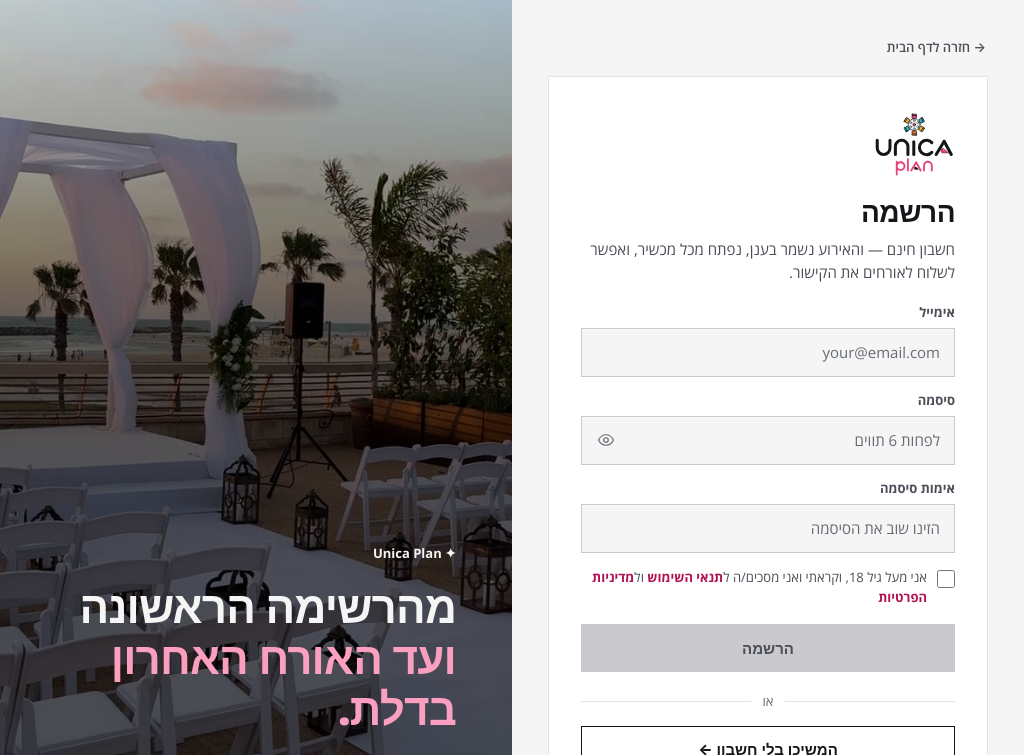
signup — consent to the terms › does not sign up without the box, and says why
In the field labelled "אימייל": (768, 352) left=581, top=328, right=955, bottom=377, type "a@b.co"
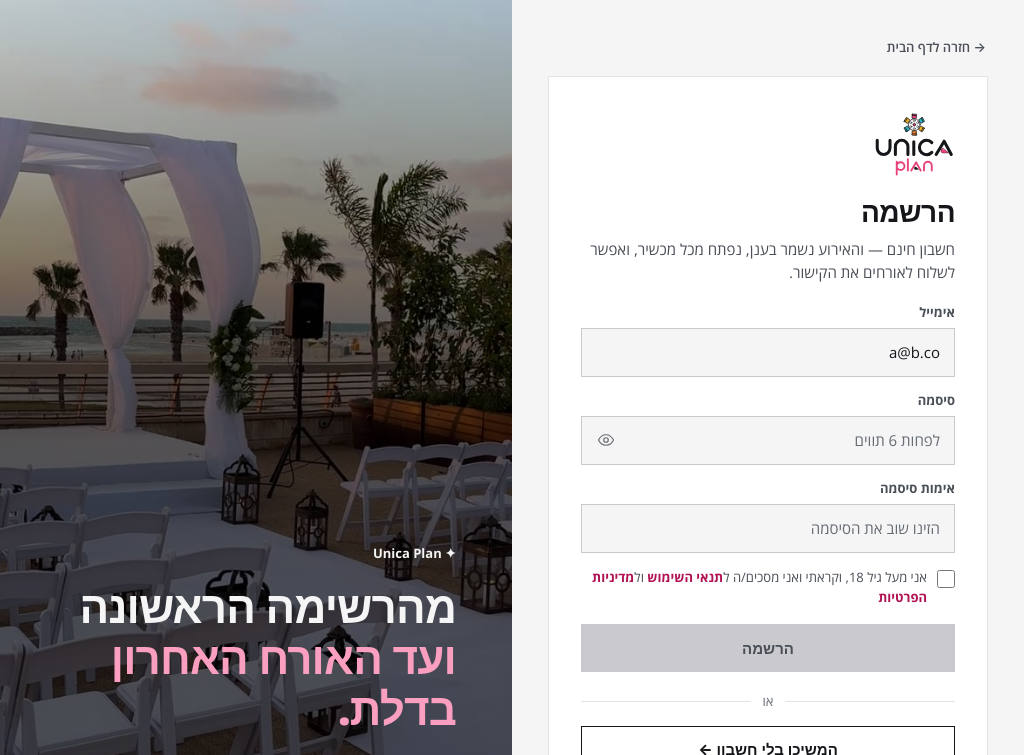
In the password field labelled "סיסמה": (768, 440) left=581, top=416, right=955, bottom=465, type "secret1"
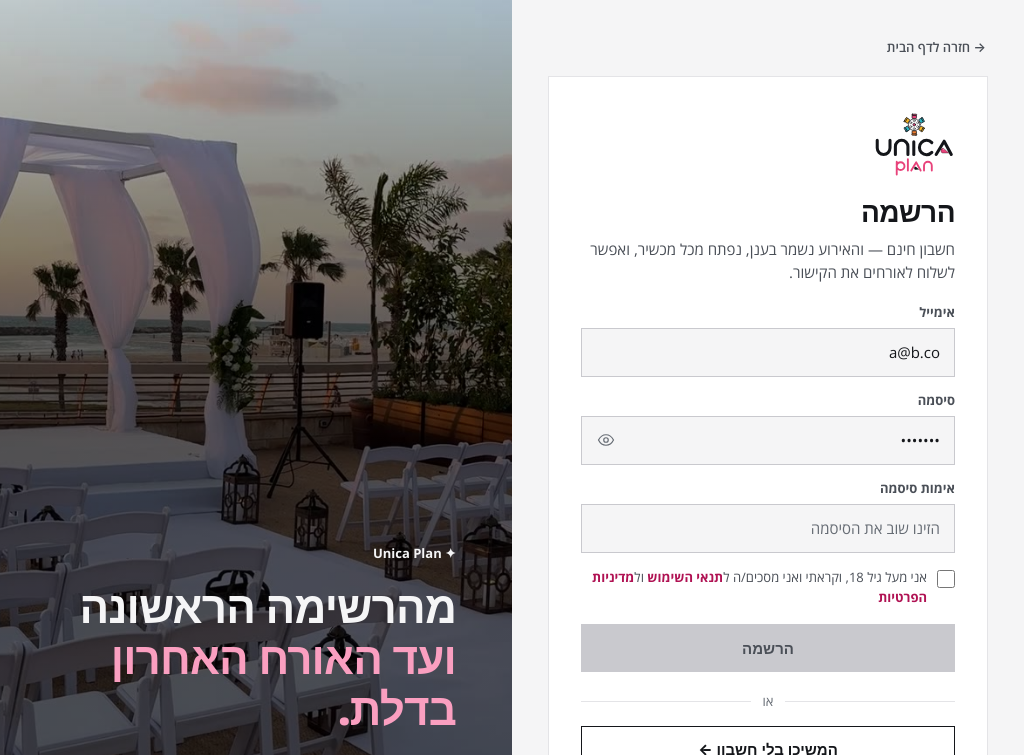
In the password field labelled "אימות סיסמה": (768, 528) left=581, top=504, right=955, bottom=553, type "secret1"
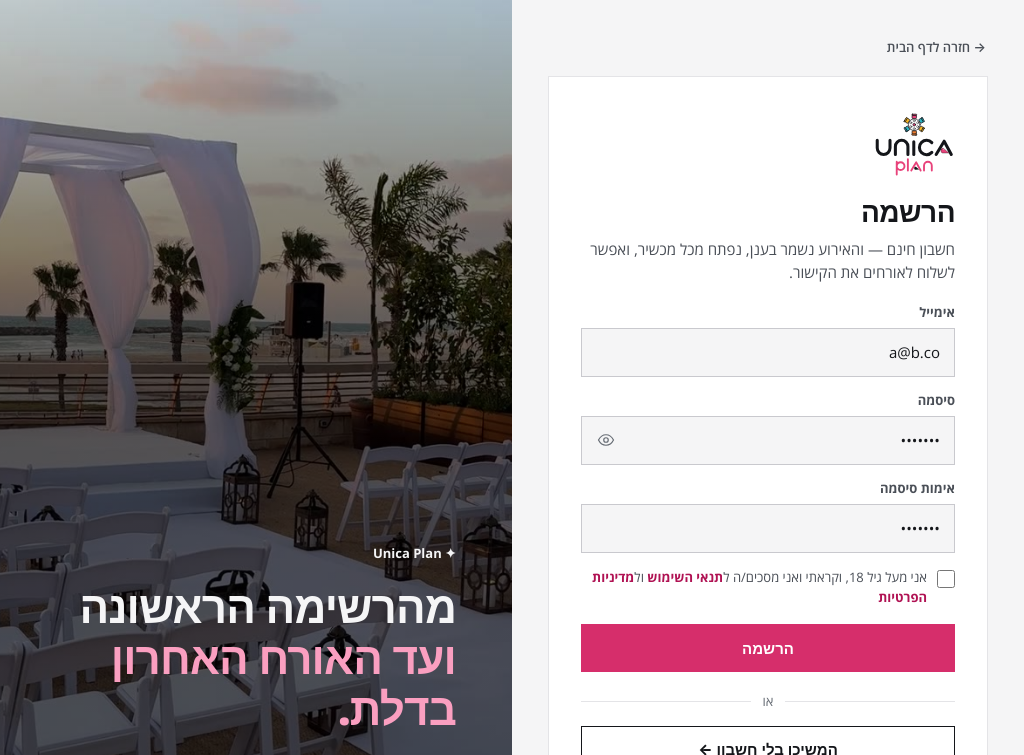
Click the button "הרשמה": (768, 648) left=581, top=624, right=955, bottom=672
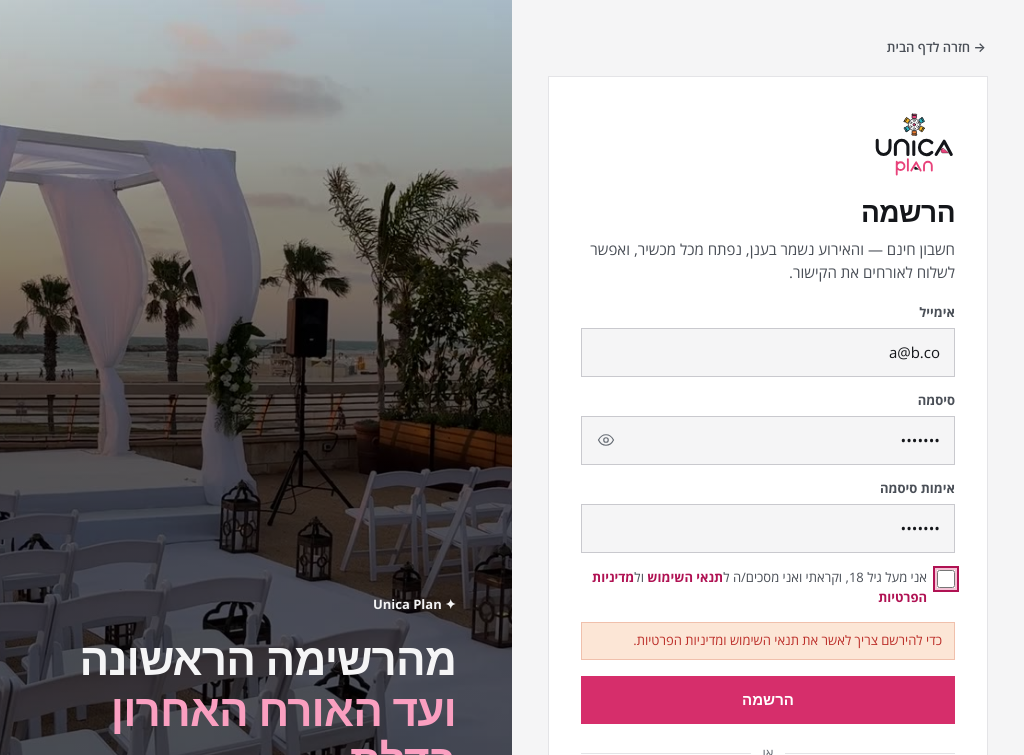
expect the message shows "תנאי השימוש": met, box left=633, top=631, right=942, bottom=649
